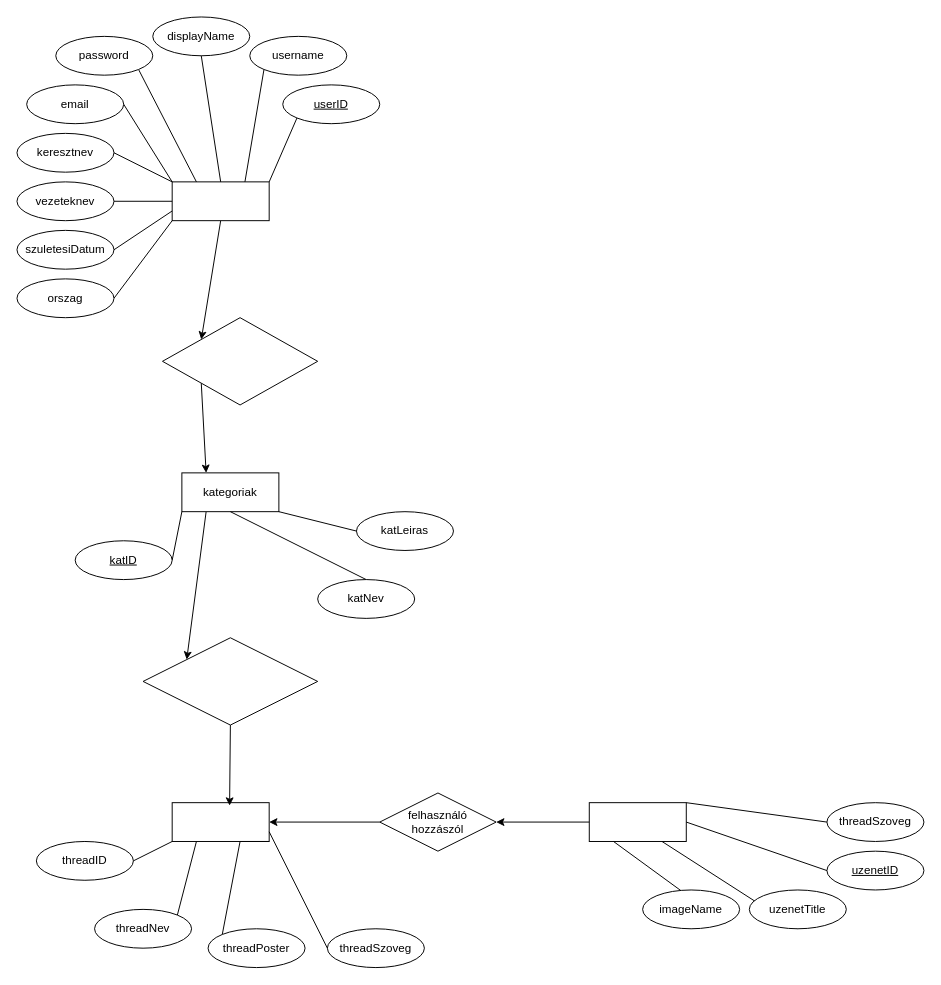
The diagram is 941 pixels wide and 985 high, and some of its shapes have lost their labels. Each missing label, with the centre of its shape:
felhasznalo: pixel 220 201
felhasználó posztol: pixel 230 681
kiválaszt: pixel 240 361
thread: pixel 220 821
uzenetek: pixel 637 821
